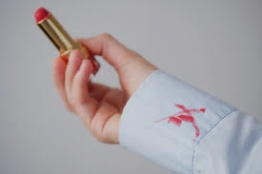lipstick: (165, 102, 209, 136), (149, 111, 195, 130), (170, 111, 195, 127)
